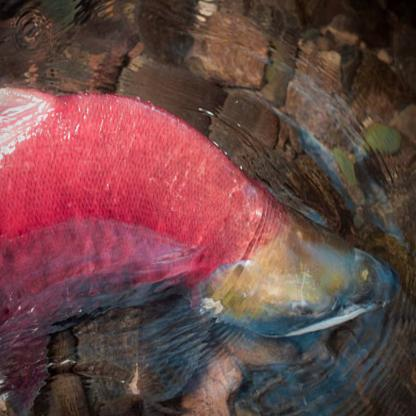sockeye: (0, 85, 391, 337)
